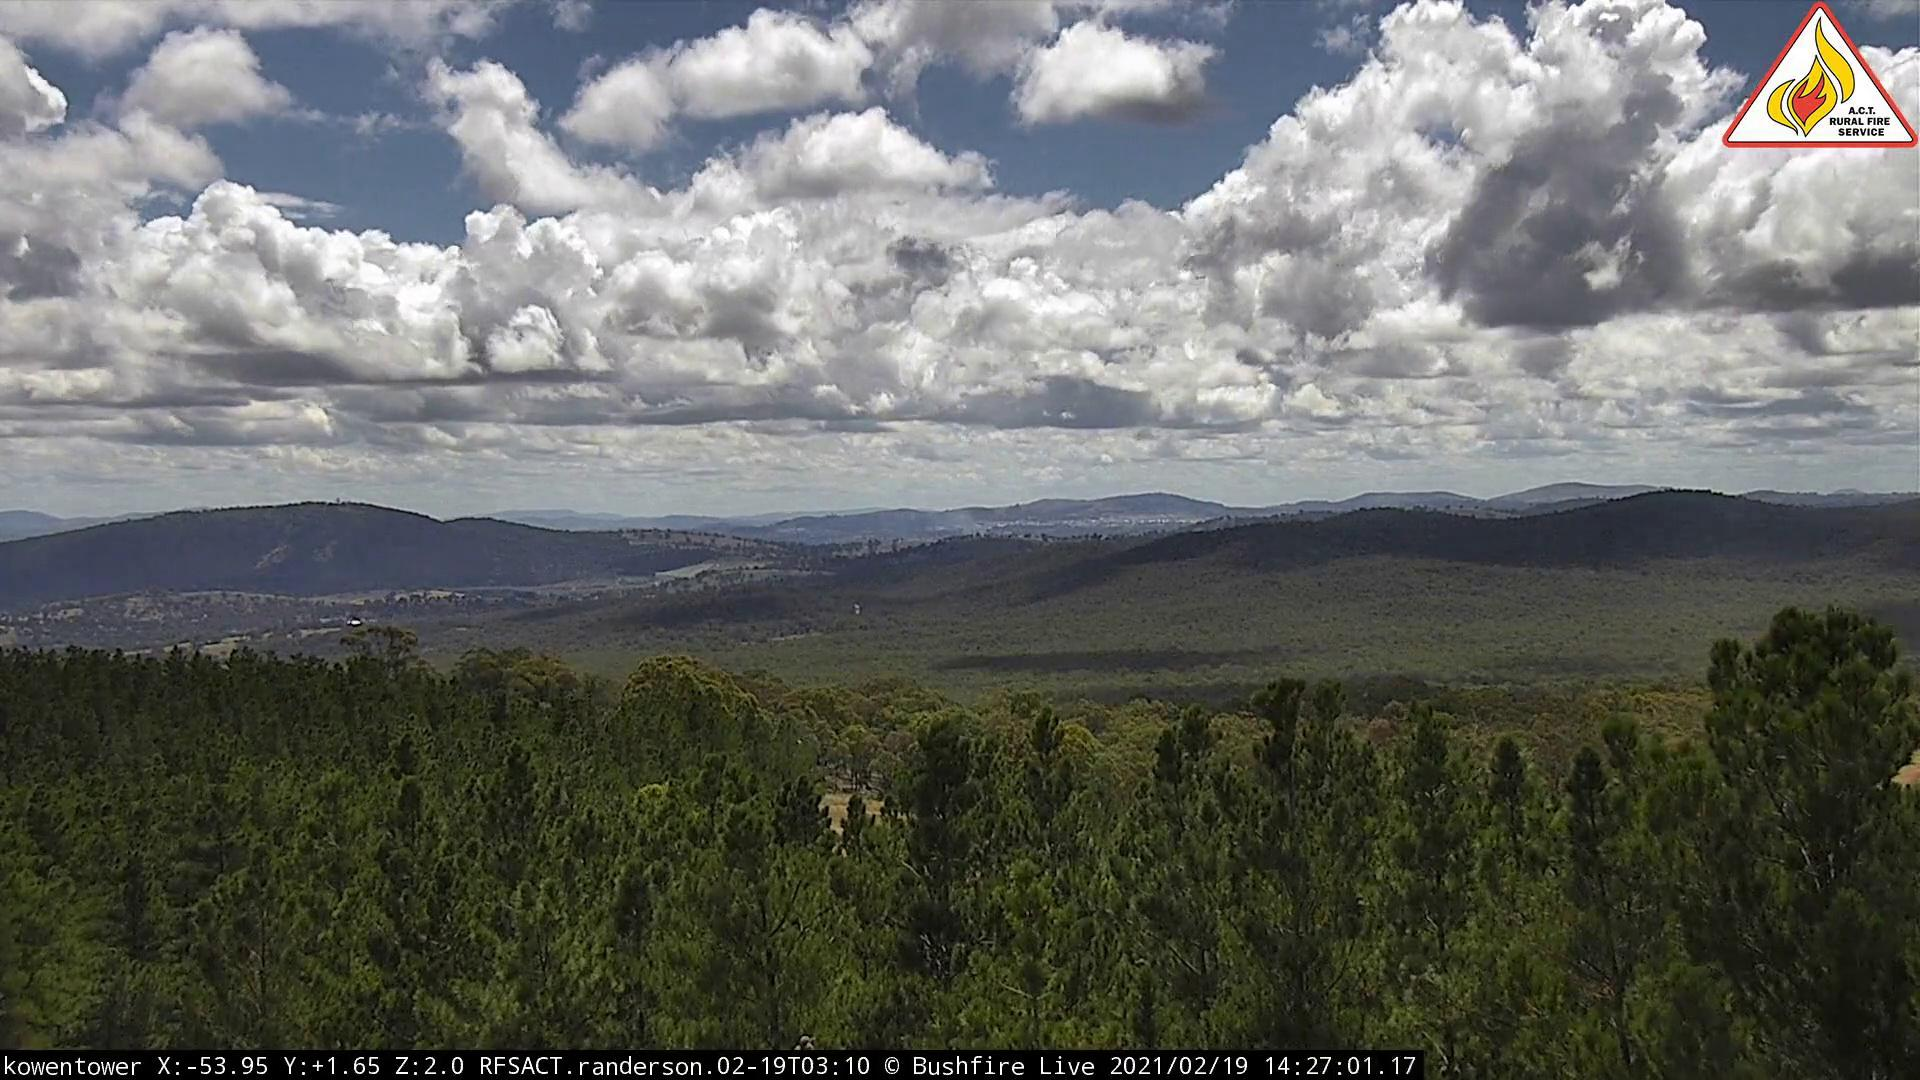Smoke: (957, 512, 998, 549)
